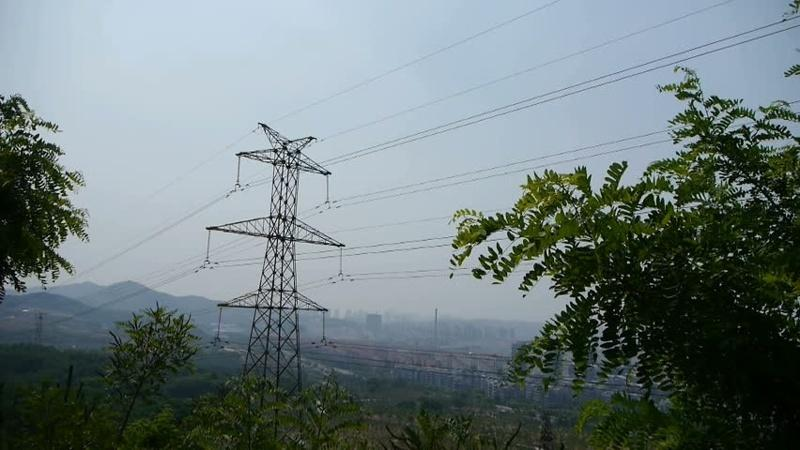power_tower: (222, 109, 350, 417)
